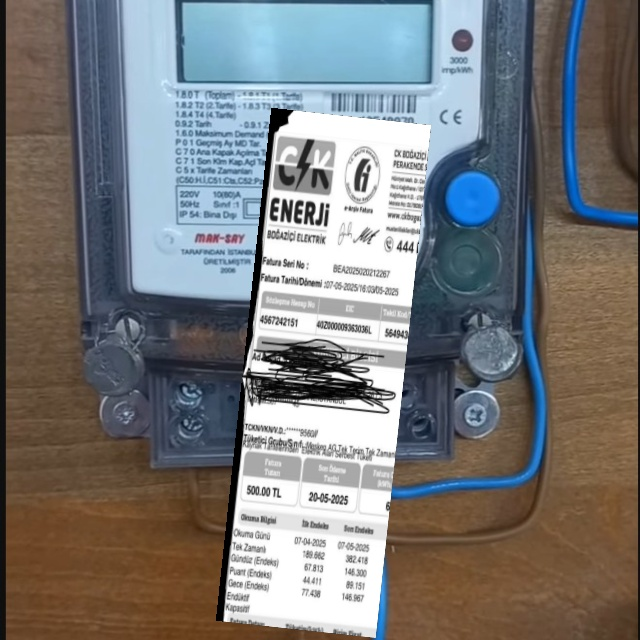electricity-bill: (215, 107, 430, 637)
